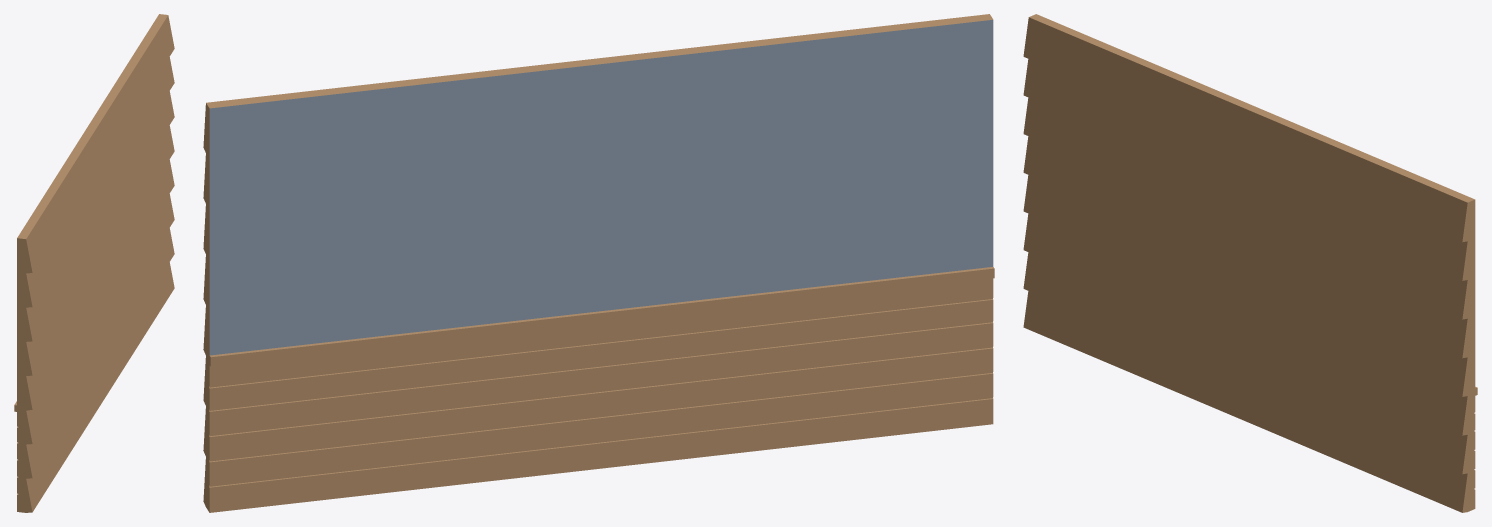
The model's file is Wall D.glb.
The picture shows the model from 3 angles, left to right: view 1: azimuth 30°, elevation 25°; view 2: azimuth 150°, elevation 25°; view 3: azimuth 270°, elevation 25°; orthographic projection. The views are drawn at different scales.
Parts seen in each view (by area): view 1: Wall D; view 2: Wall D; view 3: Wall D.
Boxes of the visible parts, <box> form: Wall D: <box>14,14,174,512</box>; Wall D: <box>203,14,994,512</box>; Wall D: <box>1023,14,1477,512</box>.
Size of the model in its own units: 293 by 220 by 293.
